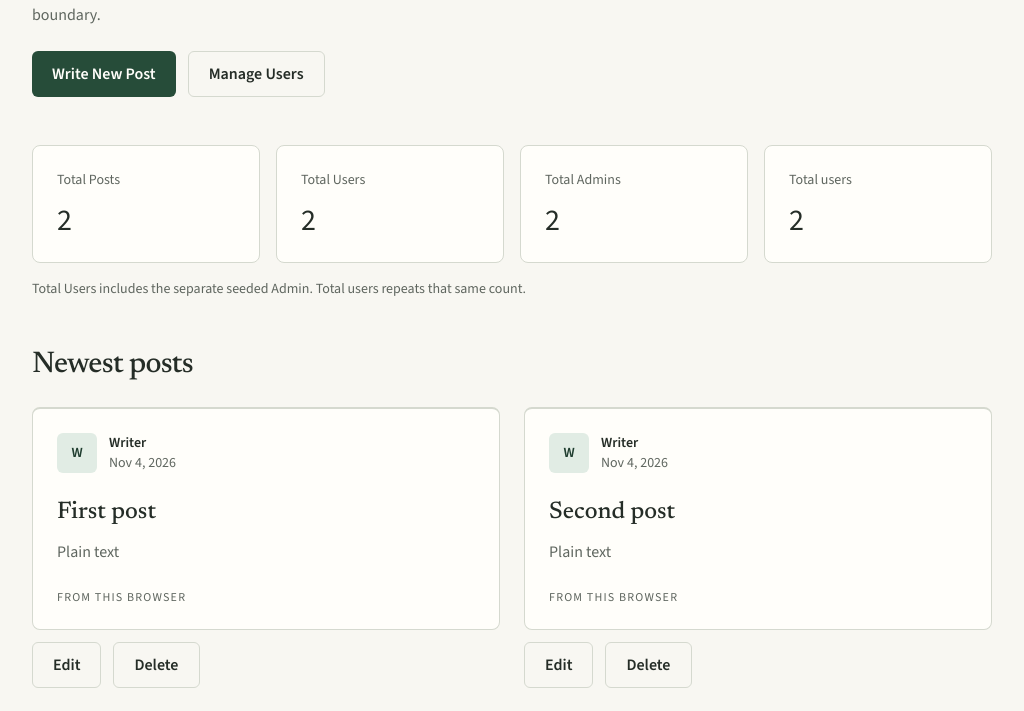
Scenario: dashboard data and explicit navigation › cancels then confirms only the selected post and updates the dashboard total
(page scrolled)
Click the button with aria-label "Delete First post": click(156, 665) [114,642,200,688]
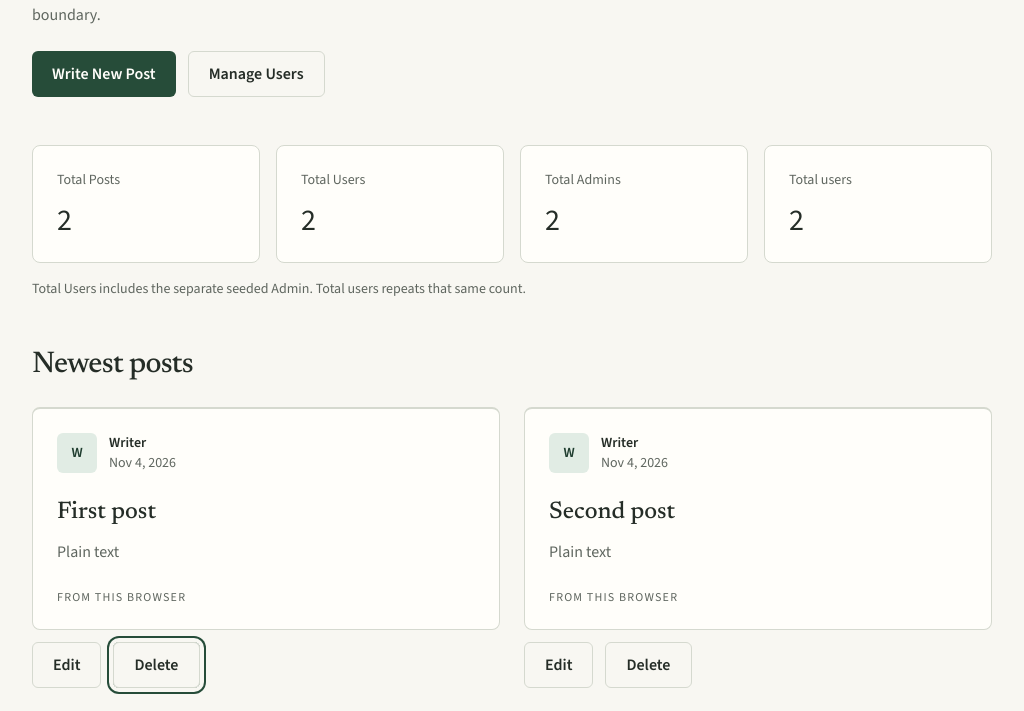
Click the button with aria-label "Delete First post": click(156, 665) [114,642,200,688]
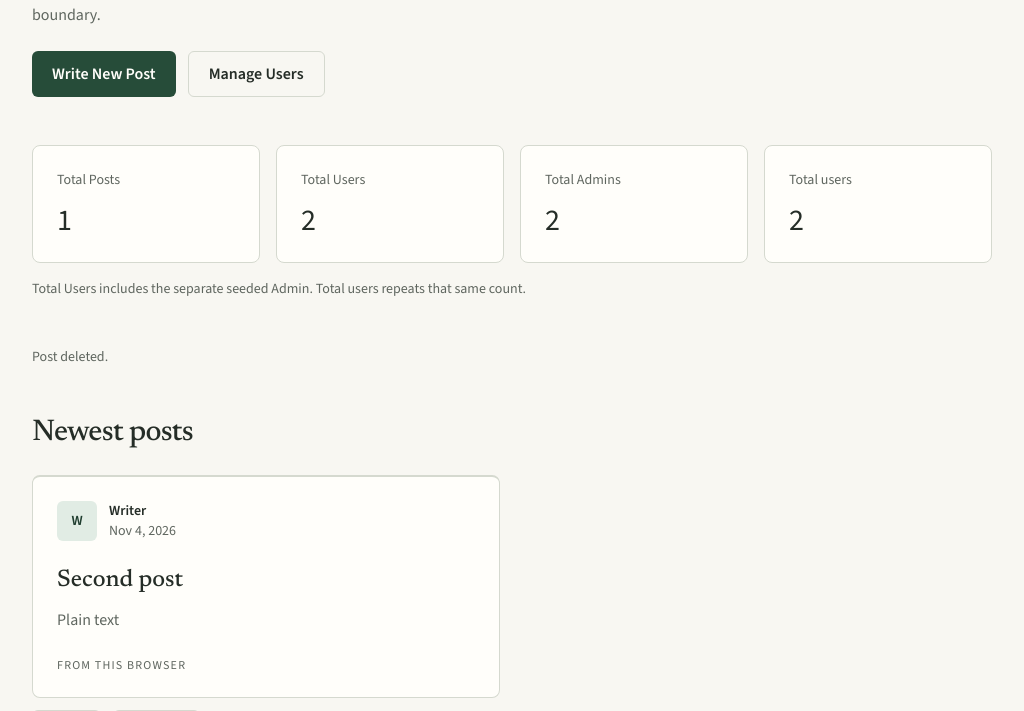
Expected: the link "First post" is gone
Expected: the message reads "Post deleted.", [32,347,108,366]
